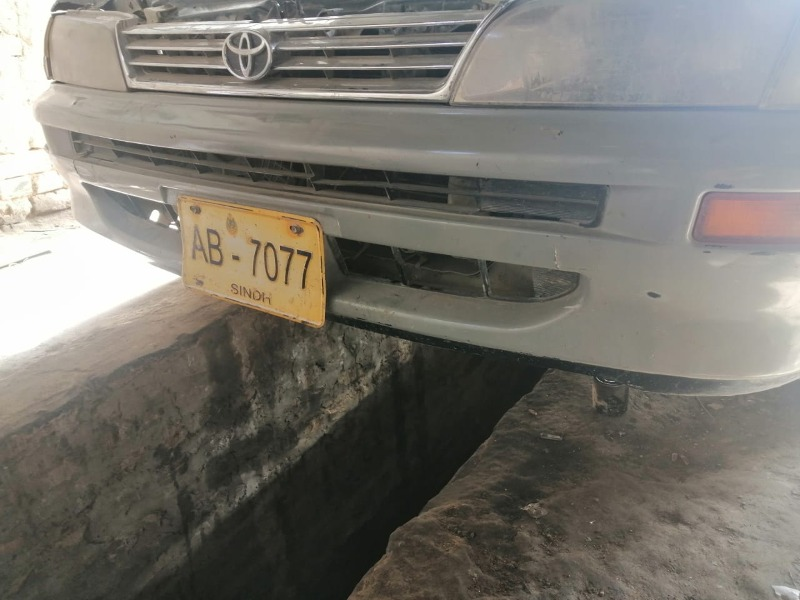License Plate: (174, 194, 331, 329)
